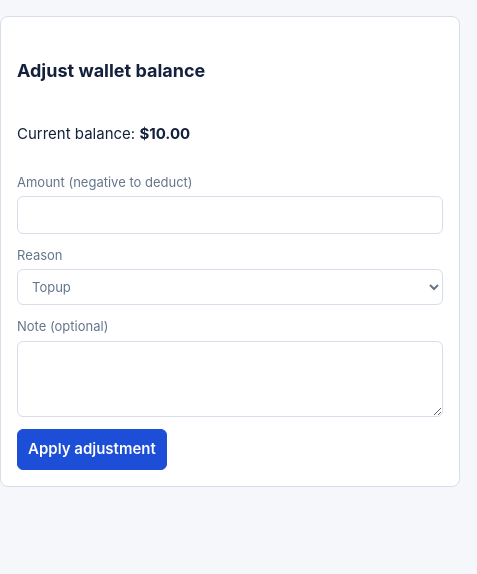
Test: WalletAdjustmentForm › shows a client-side validation error when the deduction would overdraw
The width and height of the screenshot is (477, 574).
Type "-25" into the number field labelled "Amount (negative to deduct)" at (230, 215), box [17,196,443,234]
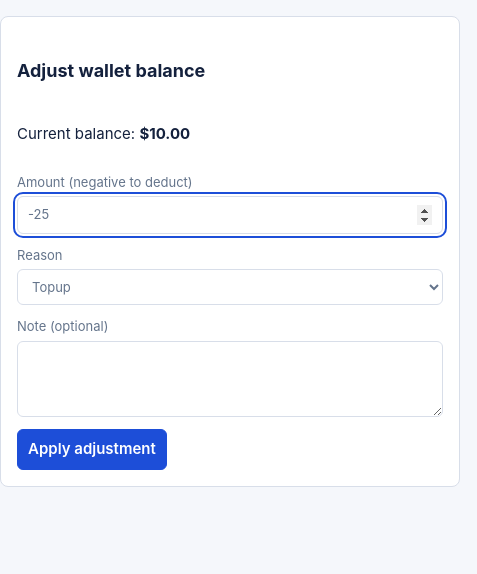
Click the button "Apply adjustment" at (92, 449), box [17,429,167,470]
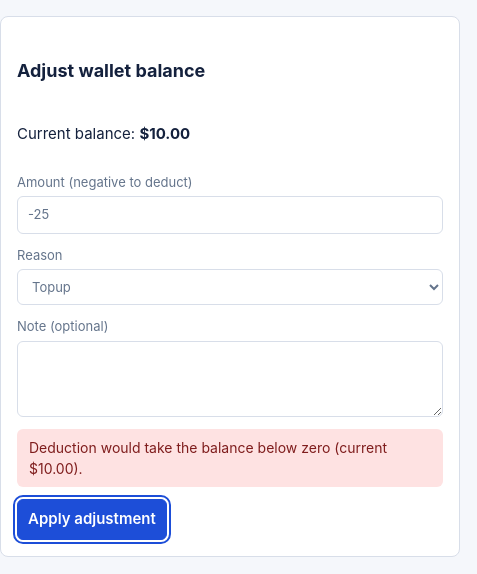
Check: the message shows "below zero", box [29,439,387,477]
